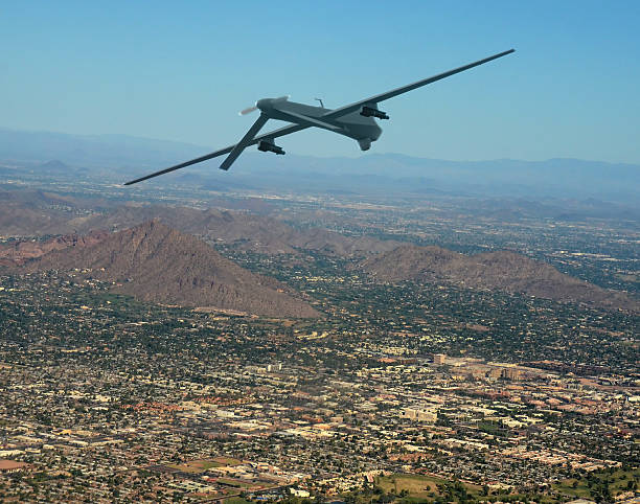military drone: (123, 47, 515, 185)
